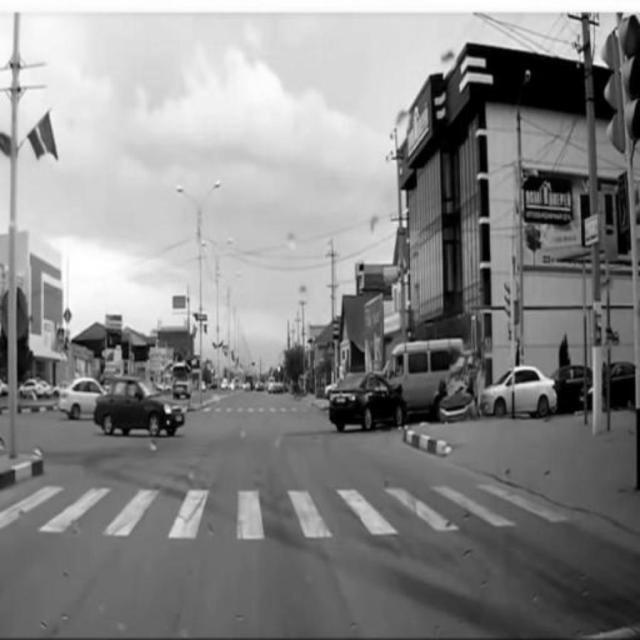accident: (327, 340, 467, 433)
vehicle: (99, 380, 187, 442), (485, 368, 558, 419), (60, 377, 111, 421)
